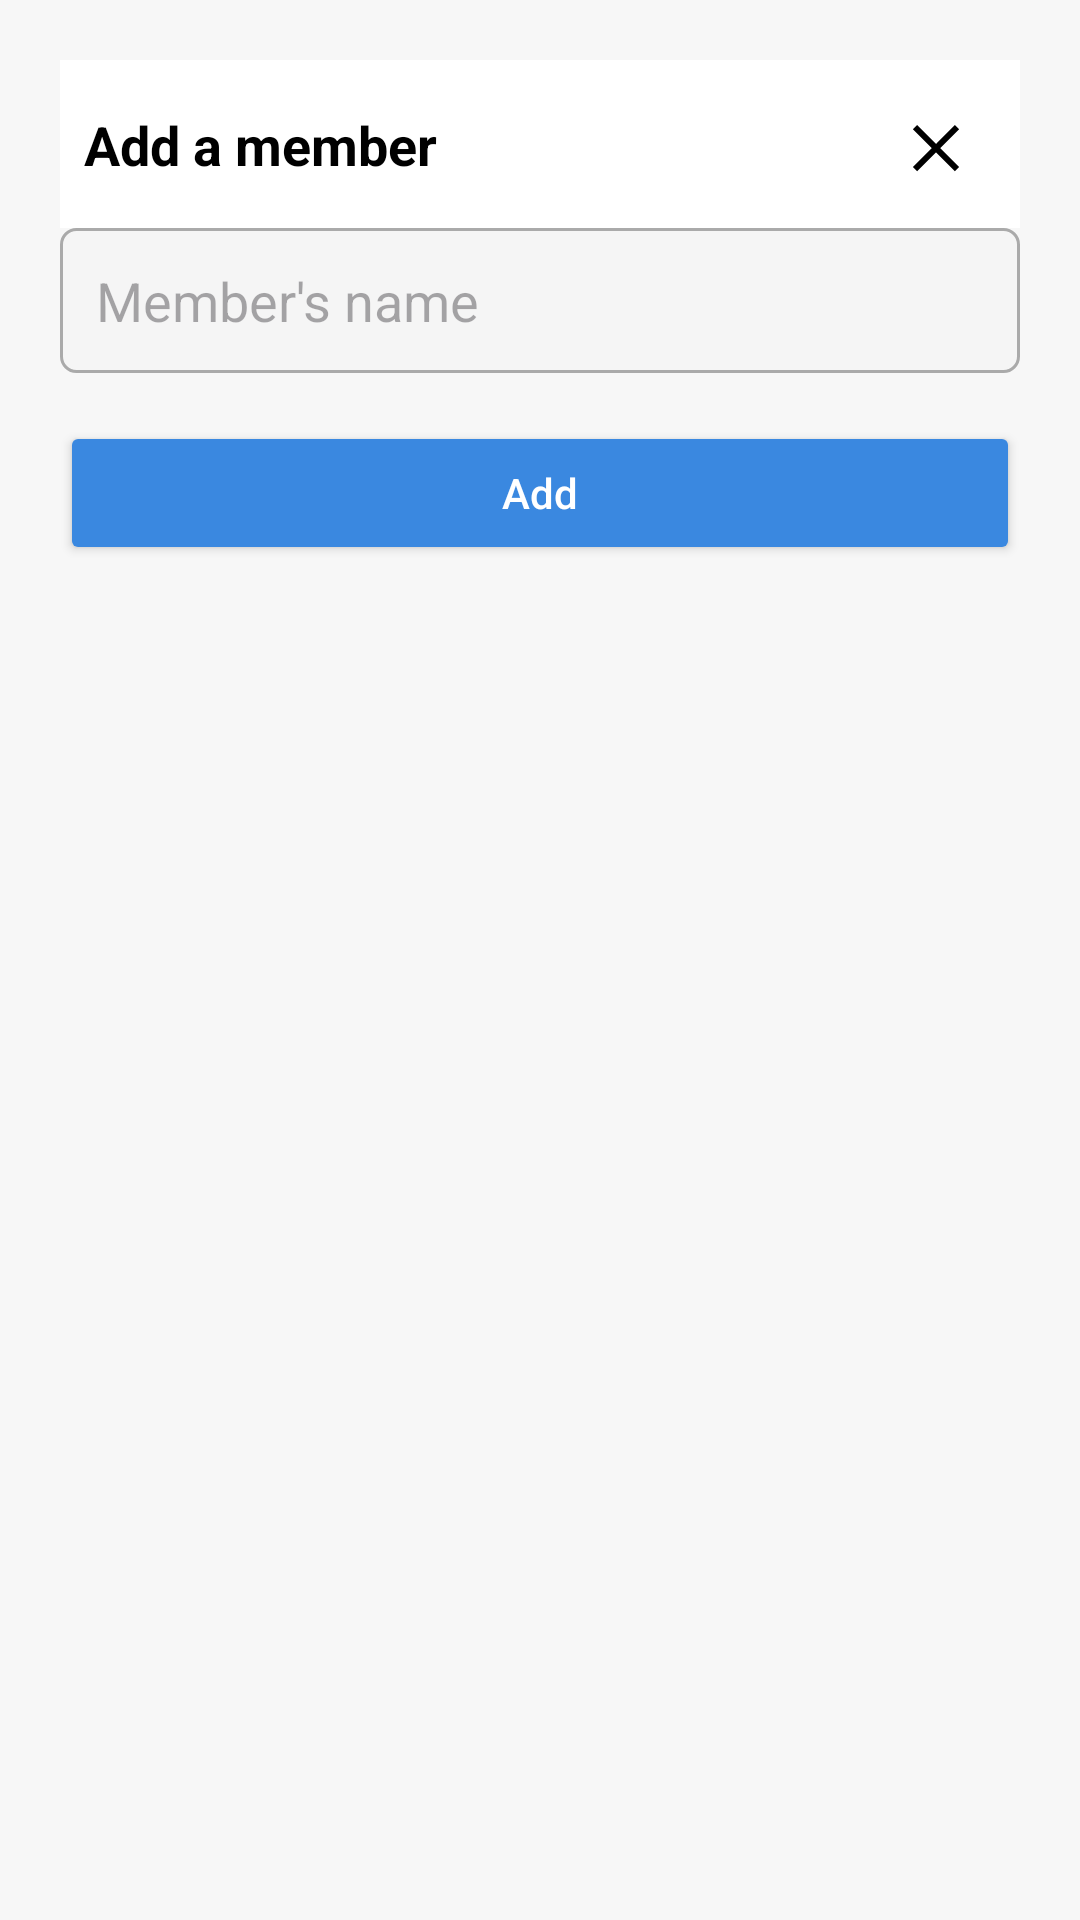

Named icons in this screenshot (1080*1920) and their bounding boxes, box(x1, y1, x2, y2):
Close: box(913, 125, 959, 171)
